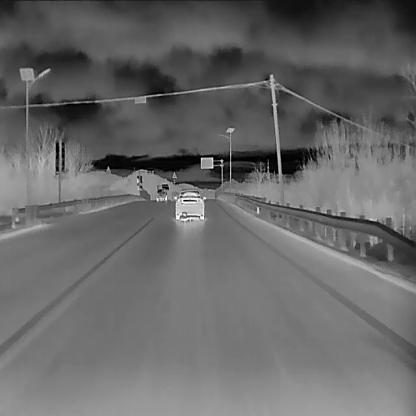car: (172, 188, 206, 219), (155, 188, 167, 200)
